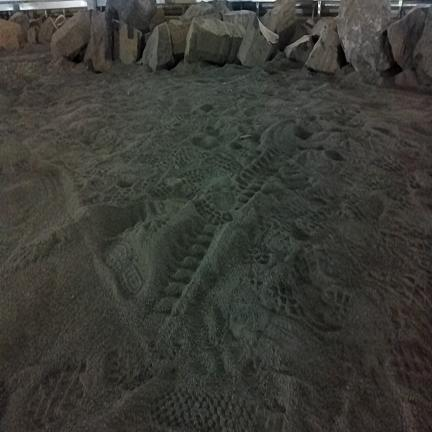Rock: (338, 0, 392, 73), (185, 18, 244, 65), (388, 8, 425, 69), (238, 16, 278, 66), (51, 11, 90, 60), (305, 28, 345, 73), (83, 10, 111, 74), (261, 0, 296, 51), (106, 0, 157, 34), (140, 23, 174, 71), (113, 21, 142, 64), (414, 8, 431, 78), (168, 20, 191, 59), (284, 36, 313, 63), (0, 20, 25, 50), (180, 2, 217, 21), (311, 17, 337, 41), (9, 12, 29, 42), (223, 11, 256, 29), (394, 70, 420, 89), (39, 17, 56, 44), (289, 23, 309, 44), (10, 12, 29, 33), (150, 8, 165, 31), (211, 0, 232, 14), (303, 18, 315, 34), (27, 27, 38, 44), (55, 15, 66, 28), (144, 33, 151, 44)
